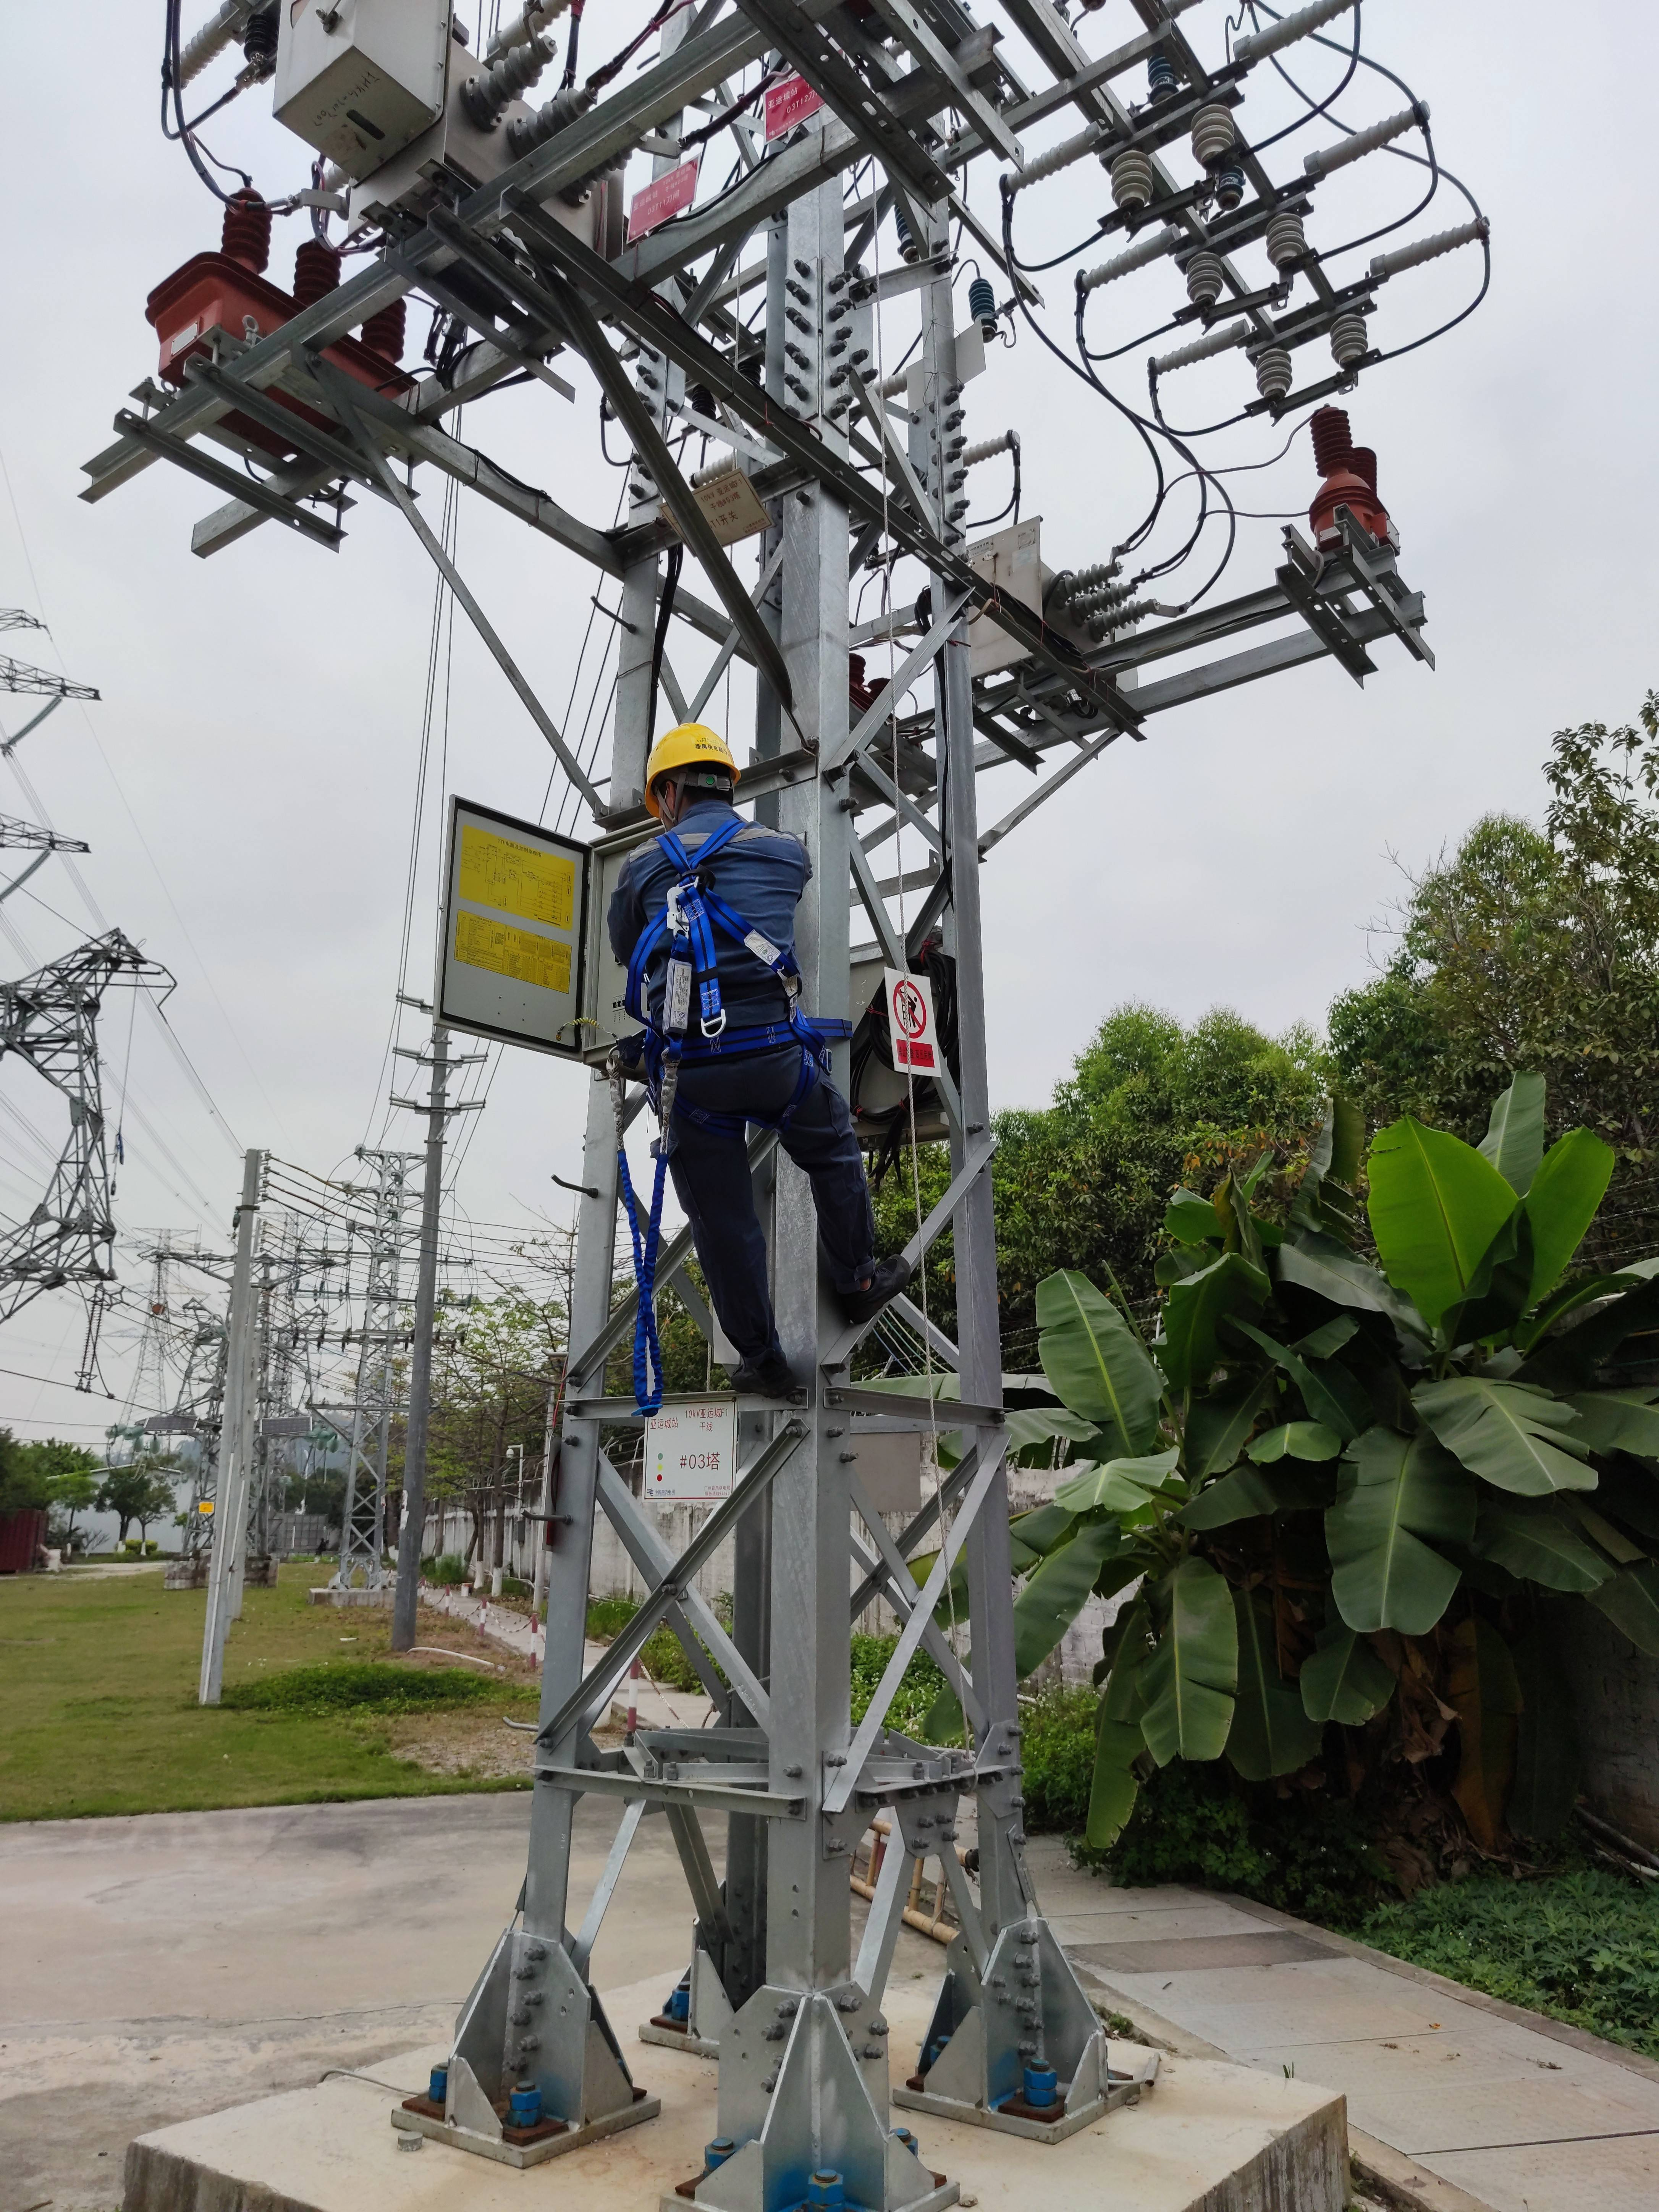downsuit: (655, 1050, 882, 1362)
upsuit: (606, 805, 814, 1033)
